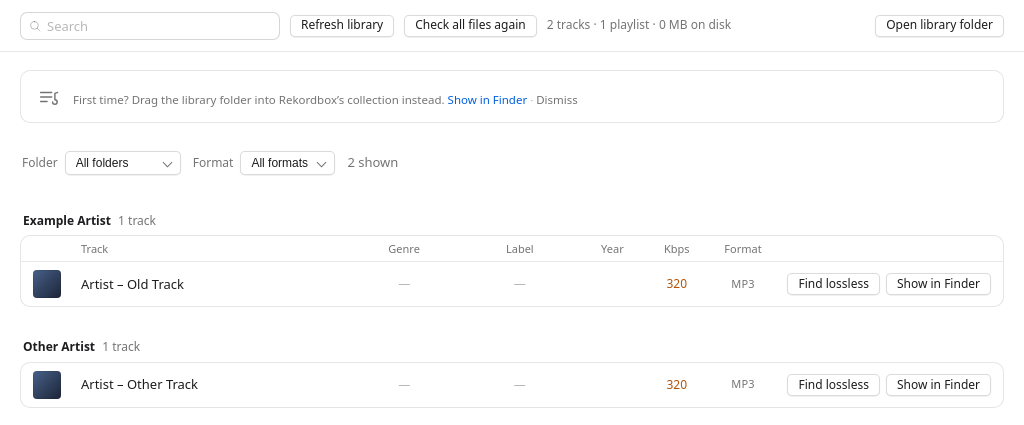
Test case: resets the folder filter, not just its display, when the folder disappears from a new result set
Expected: the text "Artist – Old Track" is shown, [81,275,184,293]
Select "Example Artist" in the dropdown labelled "Folder" at (123, 163), box [65,151,181,175]
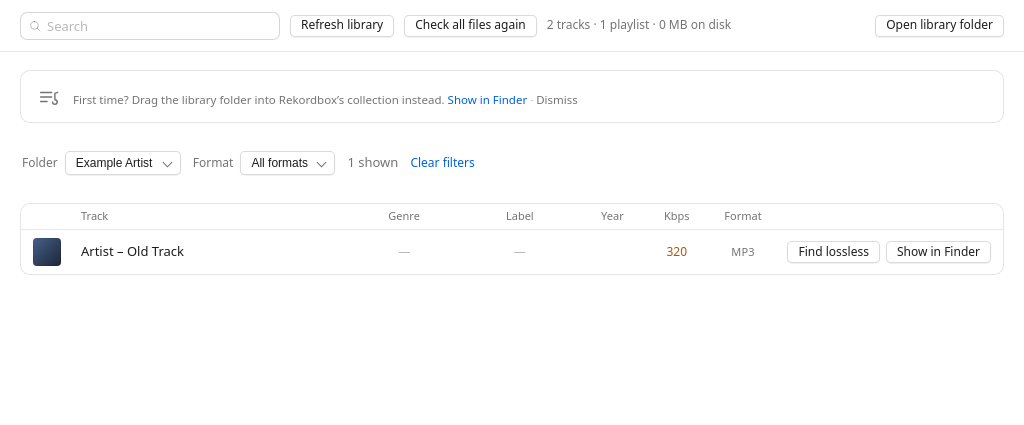
Now the text "Artist – Other Track" is gone
Type "Summer" into the field named "search library" at (150, 26), box [20,12,280,40]
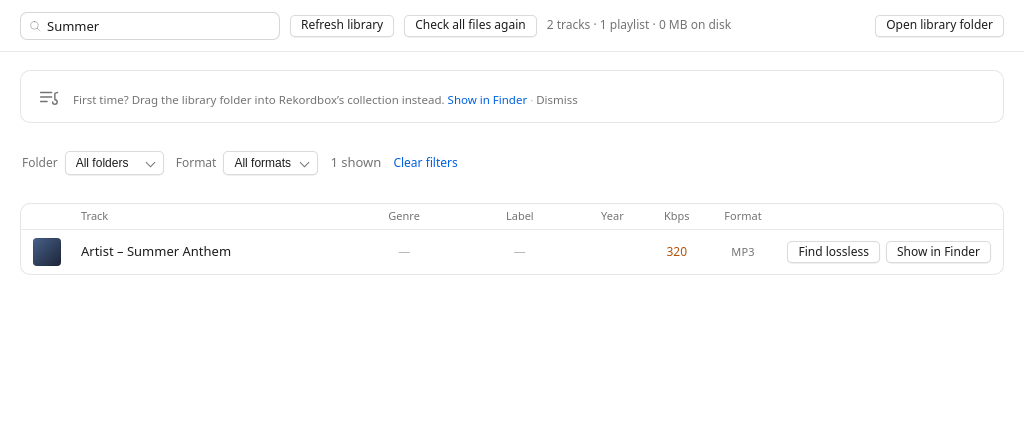
Now the text "Artist – Summer Anthem" is shown, box [81,242,231,260]
